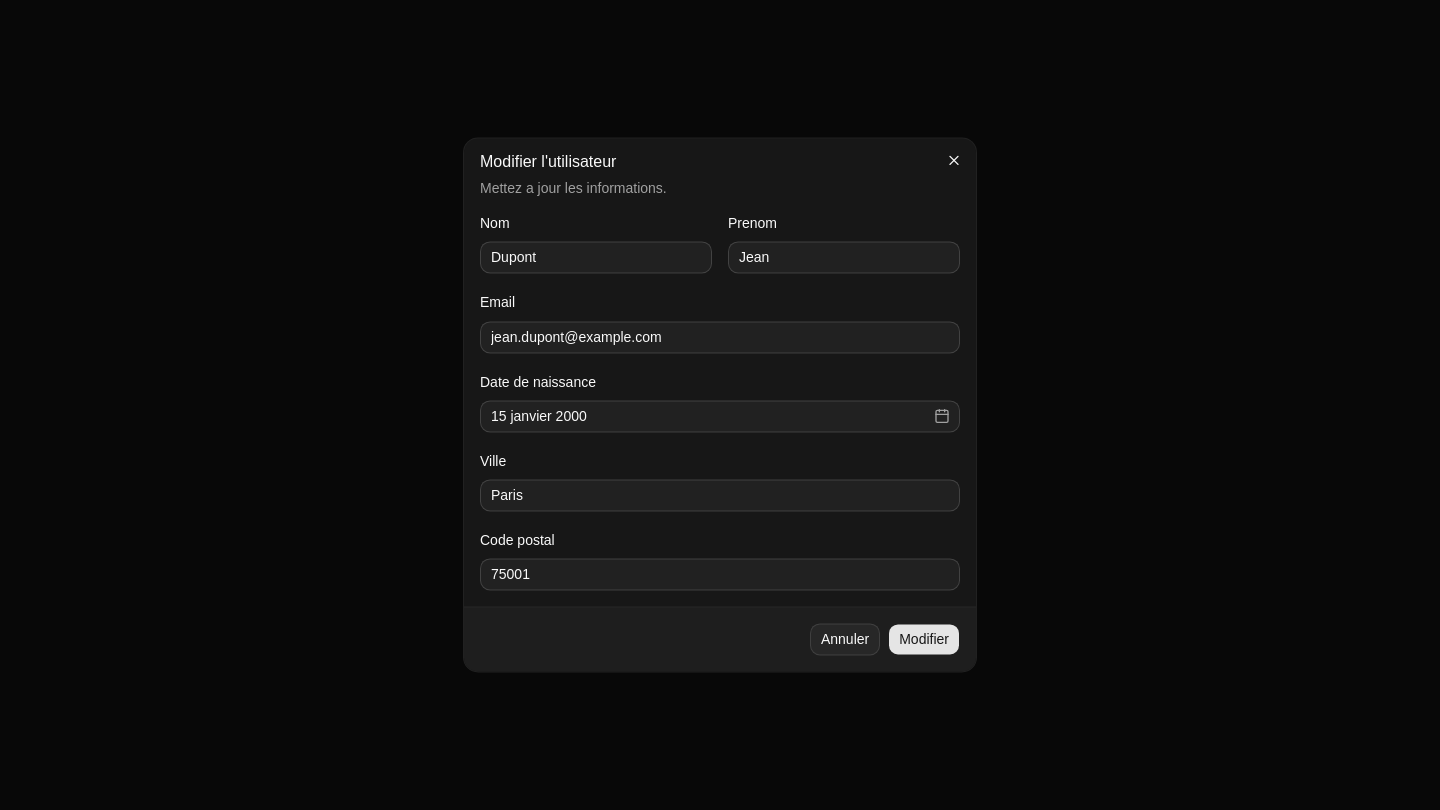
Scenario: UserDialog › keeps server field errors on the matching input
Click the button "Modifier": (924, 640) left=888, top=624, right=960, bottom=656
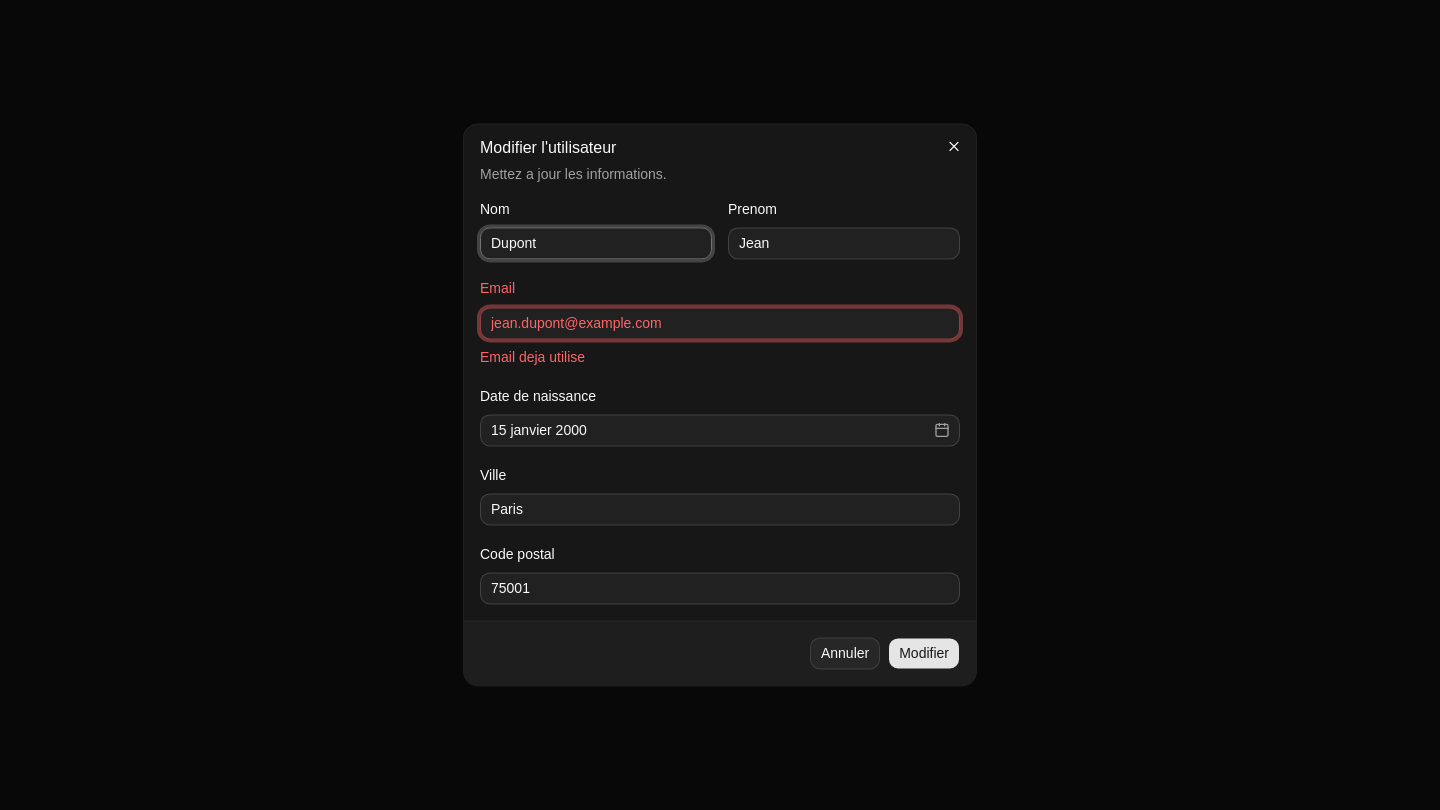
Check: the text "Email deja utilise" is shown, box left=480, top=349, right=585, bottom=365
